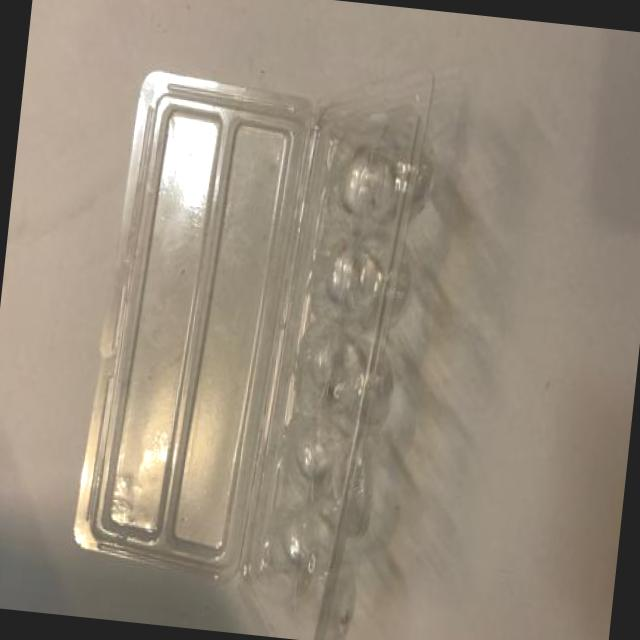Trash: (68, 30, 444, 640)
